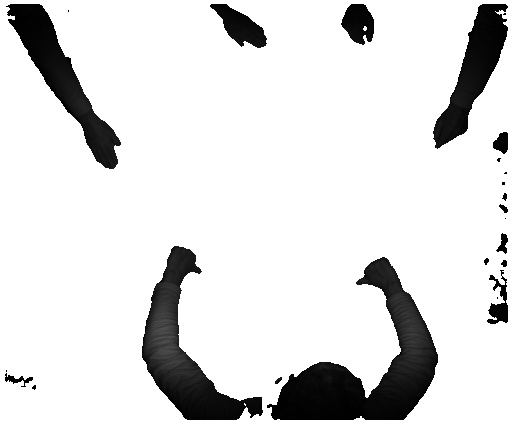hand: (84, 118, 127, 175), (225, 10, 271, 47), (352, 256, 397, 293), (168, 240, 207, 282), (432, 109, 470, 151), (336, 10, 375, 47)
